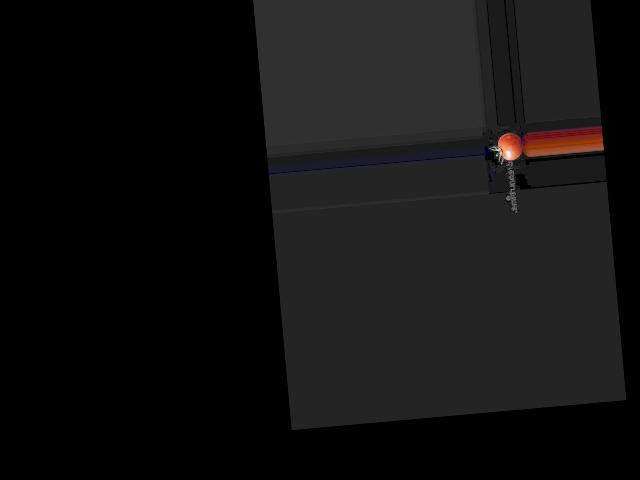tomato: (497, 132, 523, 161)
